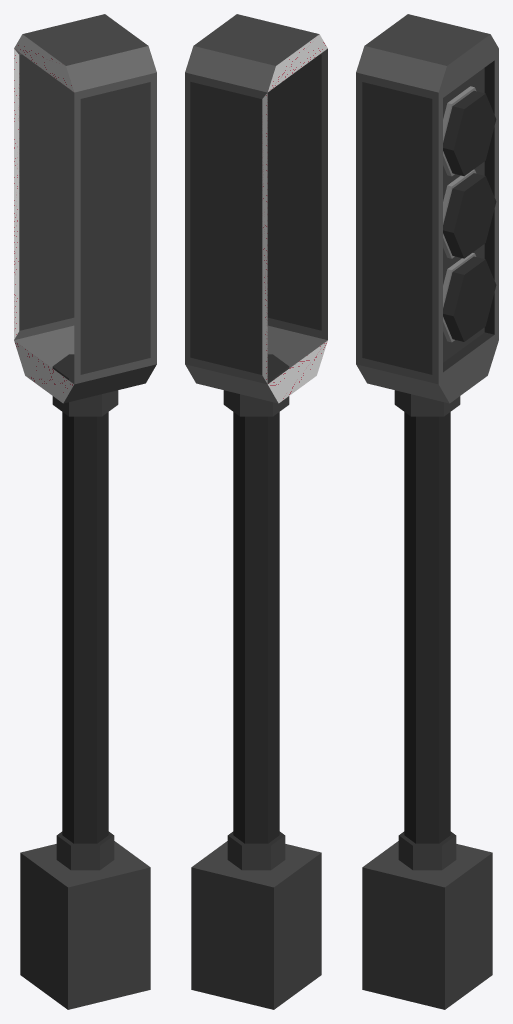
The model's file is TrafficLights.fbx.
The picture shows the model from 3 angles, left to right: view 1: azimuth 30°, elevation 25°; view 2: azimuth 150°, elevation 25°; view 3: azimuth 330°, elevation 25°; orthographic projection.
Parts seen in each view (by area): view 1: Cube.001, Cylinder, Cube; view 2: Cube.001, Cylinder, Cube; view 3: Cube.001, Cylinder, Cube, Cylinder.006, Cylinder.005, Cylinder.004, Cylinder.008.
Part boxes in pixels (x1,y1,x2,y2): Cube.001: (14,14,156,403); Cylinder: (52,354,118,870); Cube: (20,841,150,1009); Cube.001: (185,14,327,403); Cylinder: (223,354,289,870); Cube: (191,841,321,1009); Cube.001: (356,14,498,403); Cylinder: (394,390,460,870); Cube: (362,841,492,1009); Cylinder.006: (443,256,496,341); Cylinder.005: (443,173,496,258); Cylinder.004: (443,90,496,176); Cylinder.008: (443,86,476,342).
Size of the model in its own units: 98.17 by 993 by 115.
Materials: 1 (1 with a texture image).
